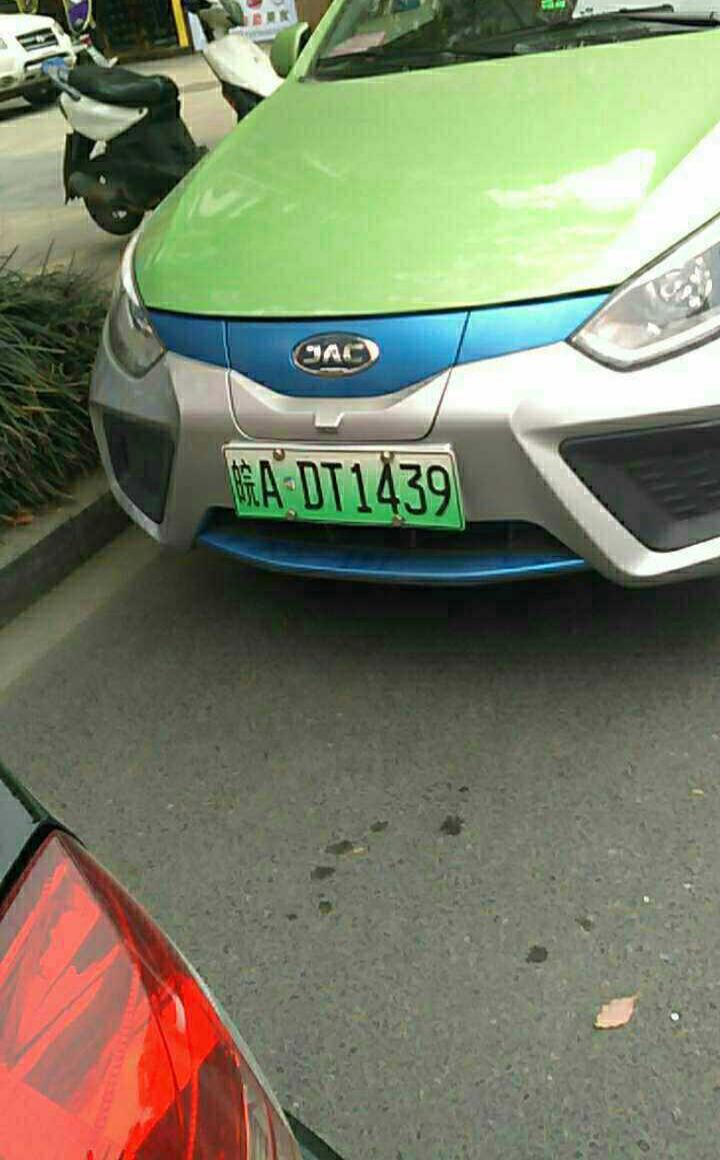car_green: (225, 434, 475, 533)
